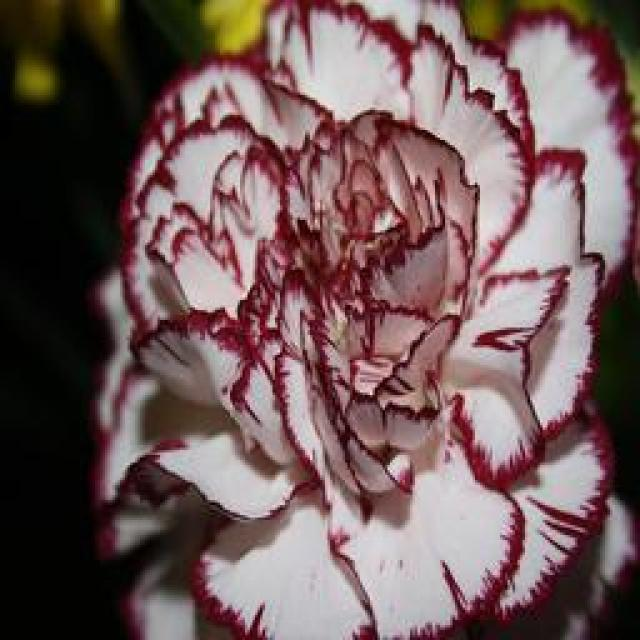carnation: (75, 7, 640, 640)
